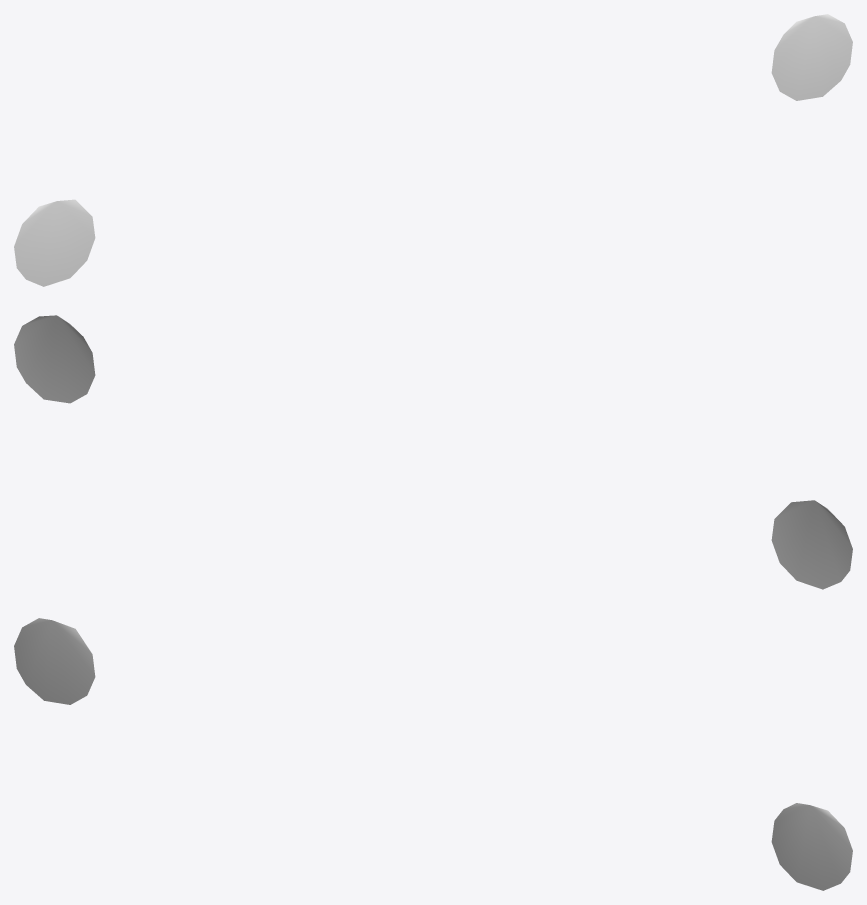
The picture shows the model from 3 angles, top to bottom: view 1: azimuth 30°, elevation 25°; view 2: azimuth 150°, elevation 25°; view 3: azimuth 330°, elevation 25°; orthographic projection.
Bounding box in the file's own units: 2.2 × 0.2131 × 0.0111.
Materials: 1 (1 with a texture image).
